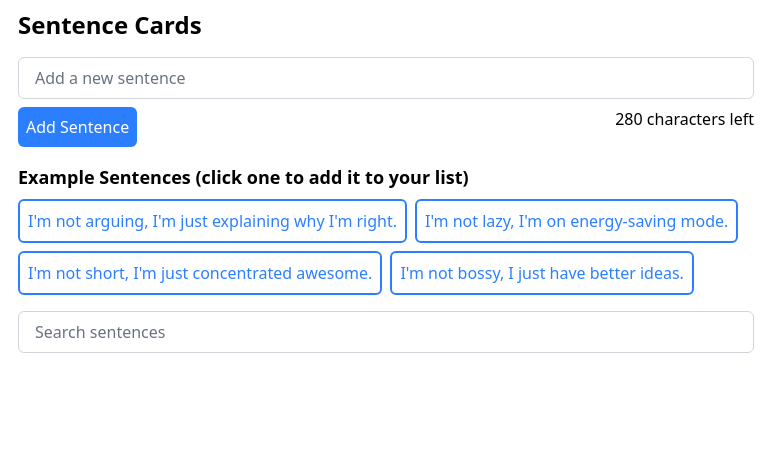
SentenceCards › filters sentences based on search term
Type "Apple pie" into the field labelled "Add a new sentence".
click(386, 78); type("Apple pie")  # box [18, 57, 754, 99]
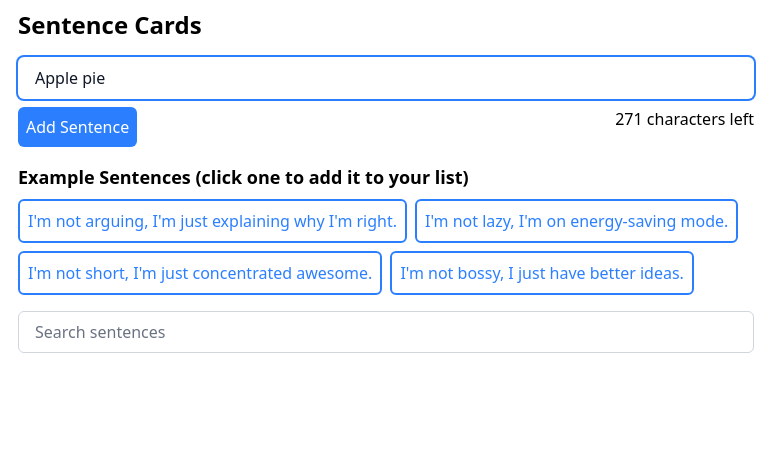
Click the button "Add Sentence".
click(78, 127)  # box [18, 107, 137, 147]
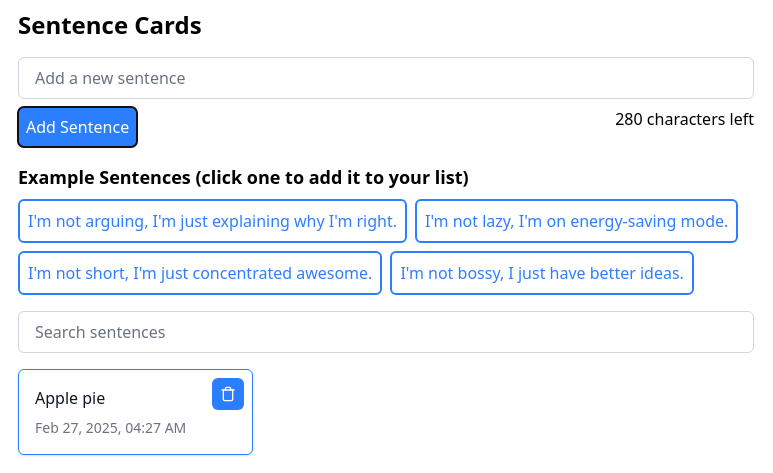
Type "Banana bread" into the field labelled "Add a new sentence".
click(386, 78); type("Banana bread")  # box [18, 57, 754, 99]
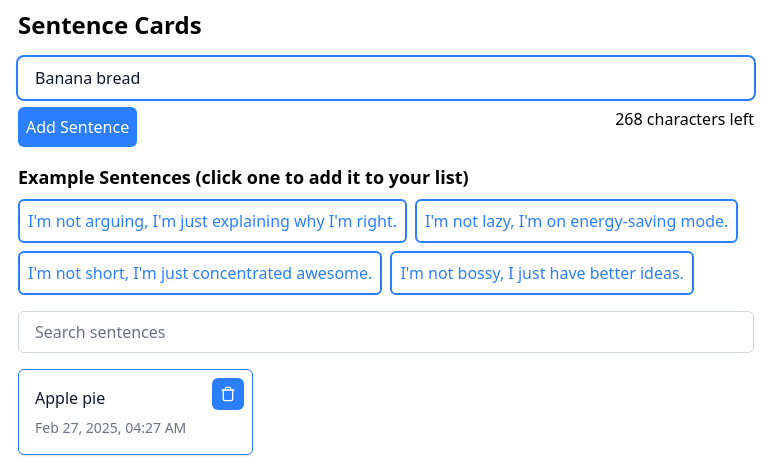
Click the button "Add Sentence".
click(78, 127)  # box [18, 107, 137, 147]
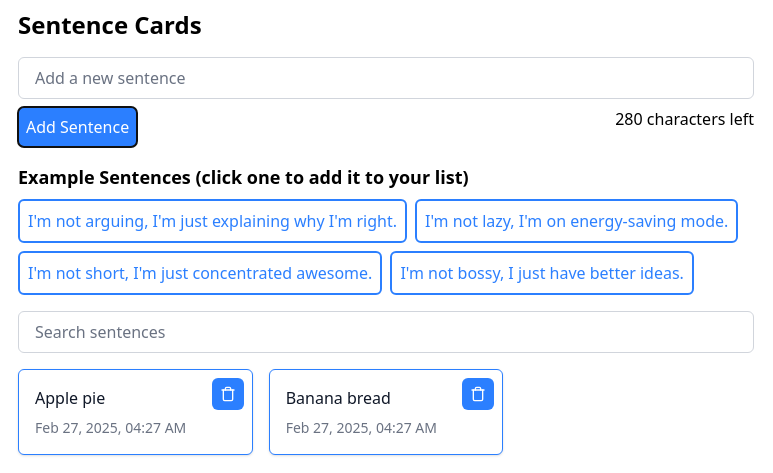
Type "apple" into the field labelled "Search sentences".
click(386, 332); type("apple")  # box [18, 311, 754, 353]
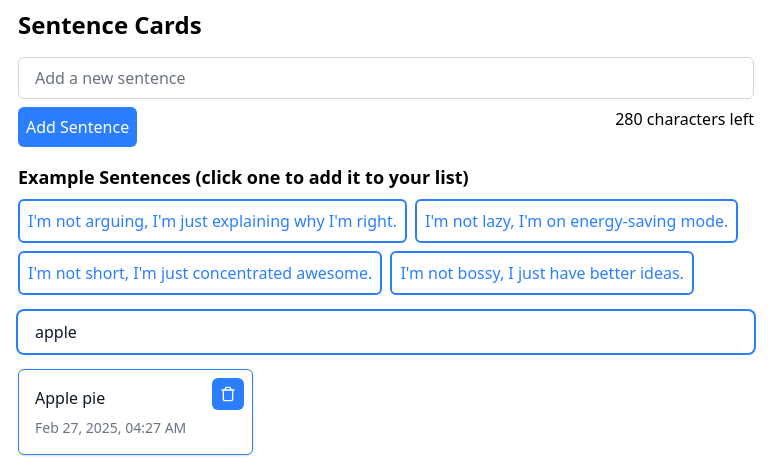
Expected: the text "Apple pie" is shown, [35, 387, 105, 409]
Expected: the text "Banana bread" is gone
